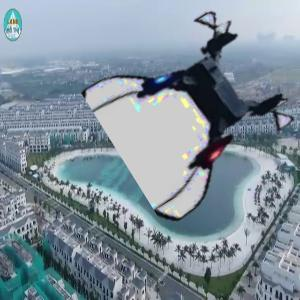drone: (108, 21, 287, 200)
